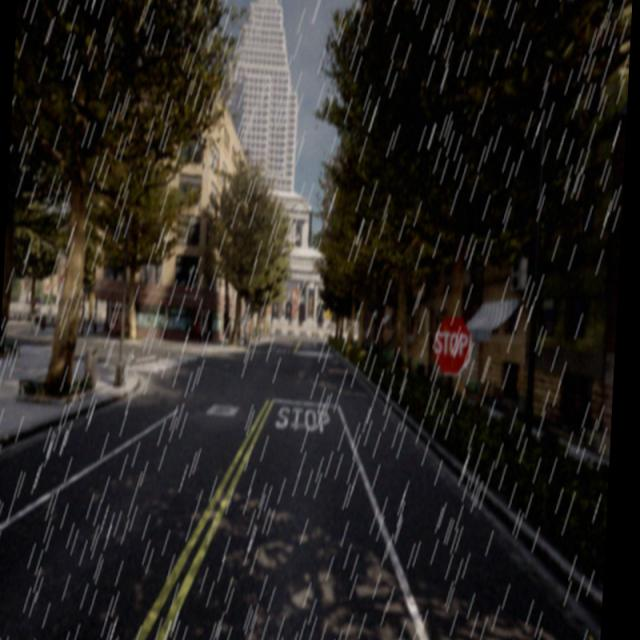stop sign: (429, 312, 474, 378)
